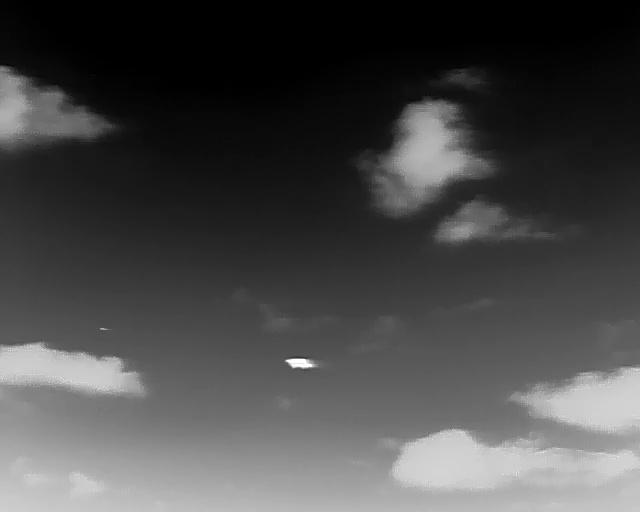fpv-drone: (285, 358, 321, 370)
